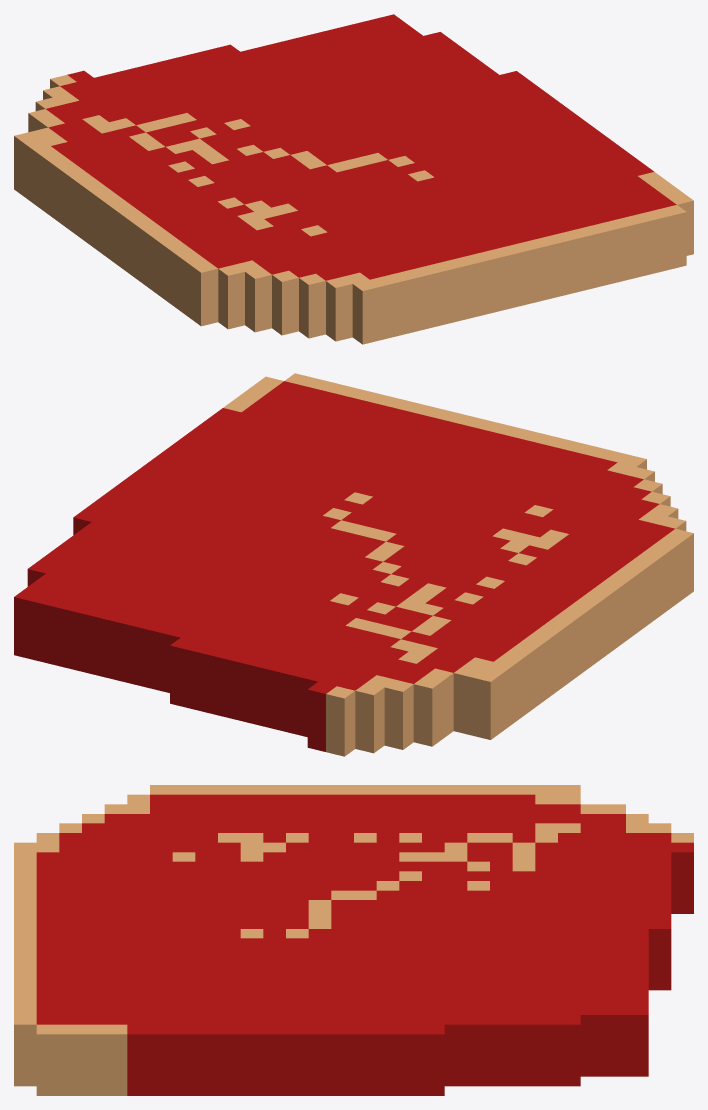
Rendered from RawBeef.obj.
3 views of the same model, one above another, from view 1: azimuth 30°, elevation 25°; view 2: azimuth 150°, elevation 25°; view 3: azimuth 270°, elevation 25° (orthographic). The views are drawn at different scales.
Bounding box in the file's own units: 2.6 × 0.3 × 3.
1 material, 1 textured.
